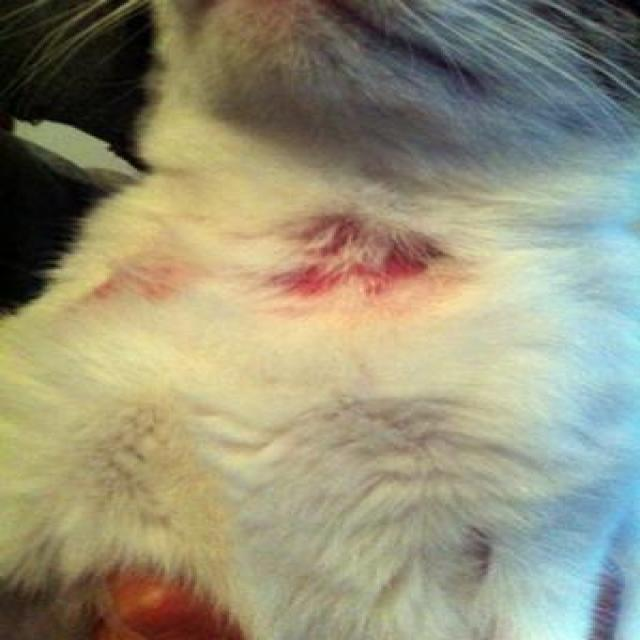da khoe manh: (242, 404, 394, 584)
hac lao: (255, 175, 453, 329)
